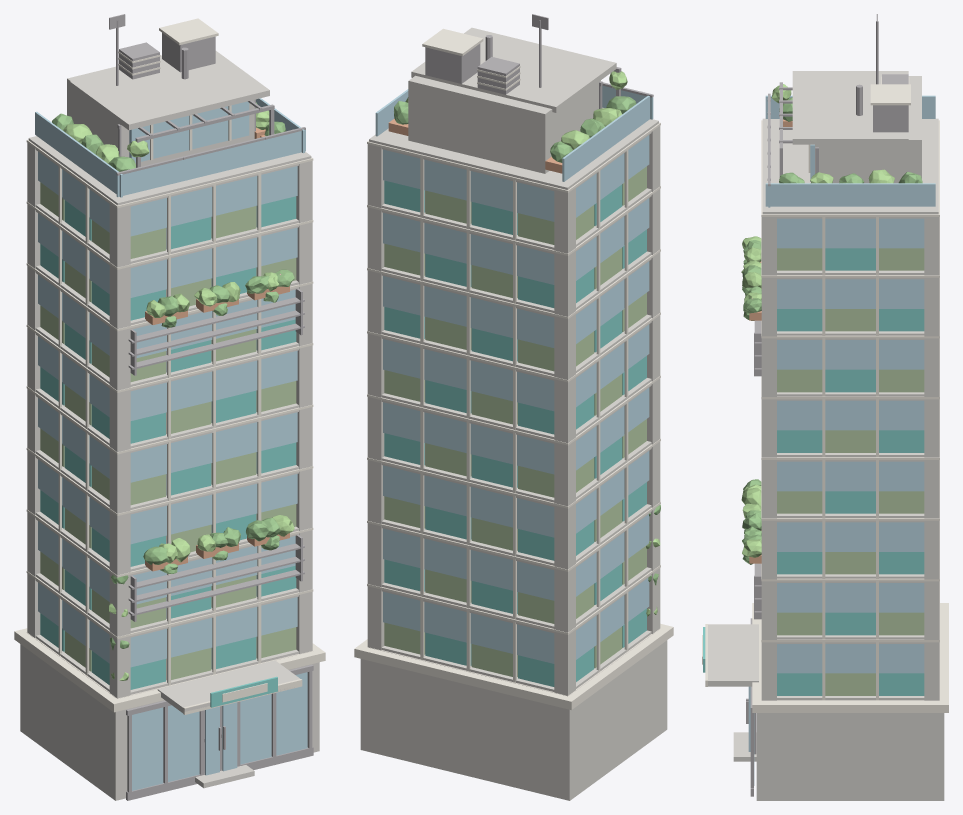
The model's file is Modern_D.fbx.
3 views of the same model, side by side, from view 1: azimuth 30°, elevation 25°; view 2: azimuth 150°, elevation 25°; view 3: azimuth 270°, elevation 25° (orthographic). The views are drawn at different scales.
Parts seen in each view (by area): view 1: Modern_D, Modern_D_Veg; view 2: Modern_D, Modern_D_Veg; view 3: Modern_D, Modern_D_Veg.
Boxes of the visible parts, x1,y1,x2,y2 form: Modern_D: [14, 14, 325, 800]; Modern_D_Veg: [52, 102, 294, 680]; Modern_D: [354, 14, 673, 800]; Modern_D_Veg: [394, 71, 660, 616]; Modern_D: [702, 14, 948, 800]; Modern_D_Veg: [741, 84, 922, 564].
Bounding box in the file's own units: 5.4 × 17.66 × 5.52.
